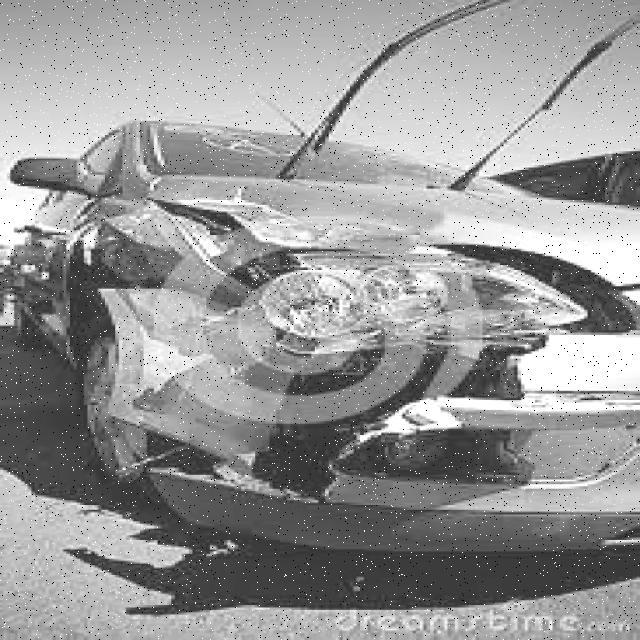car damage: (65, 183, 640, 556)
